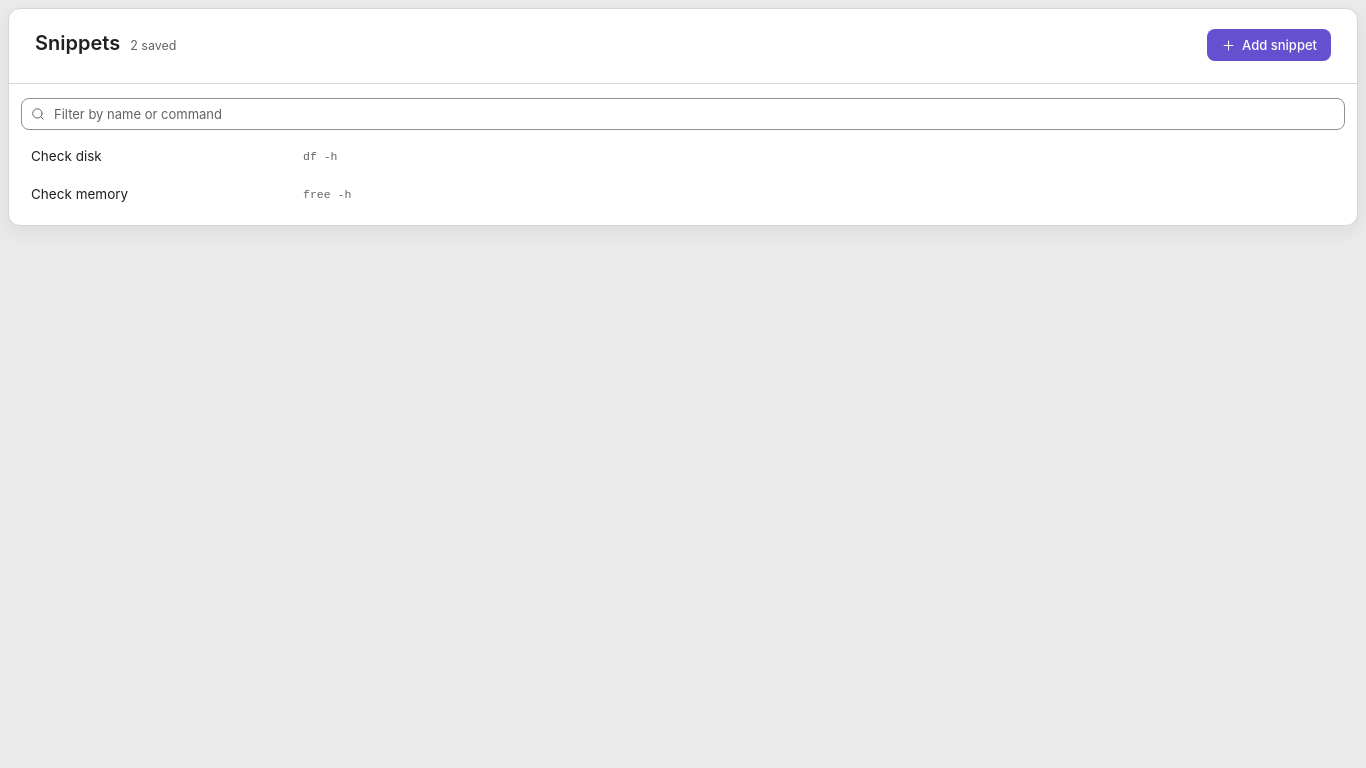
Test case: asks before a new snippet replaces what was typed for another new one
This screenshot has width=1366, height=768.
Expected: the button "Check disk df -h" is shown, [21,138,1345,174]
Click the button "Add snippet" at (1269, 45), box [1207,29,1331,61]
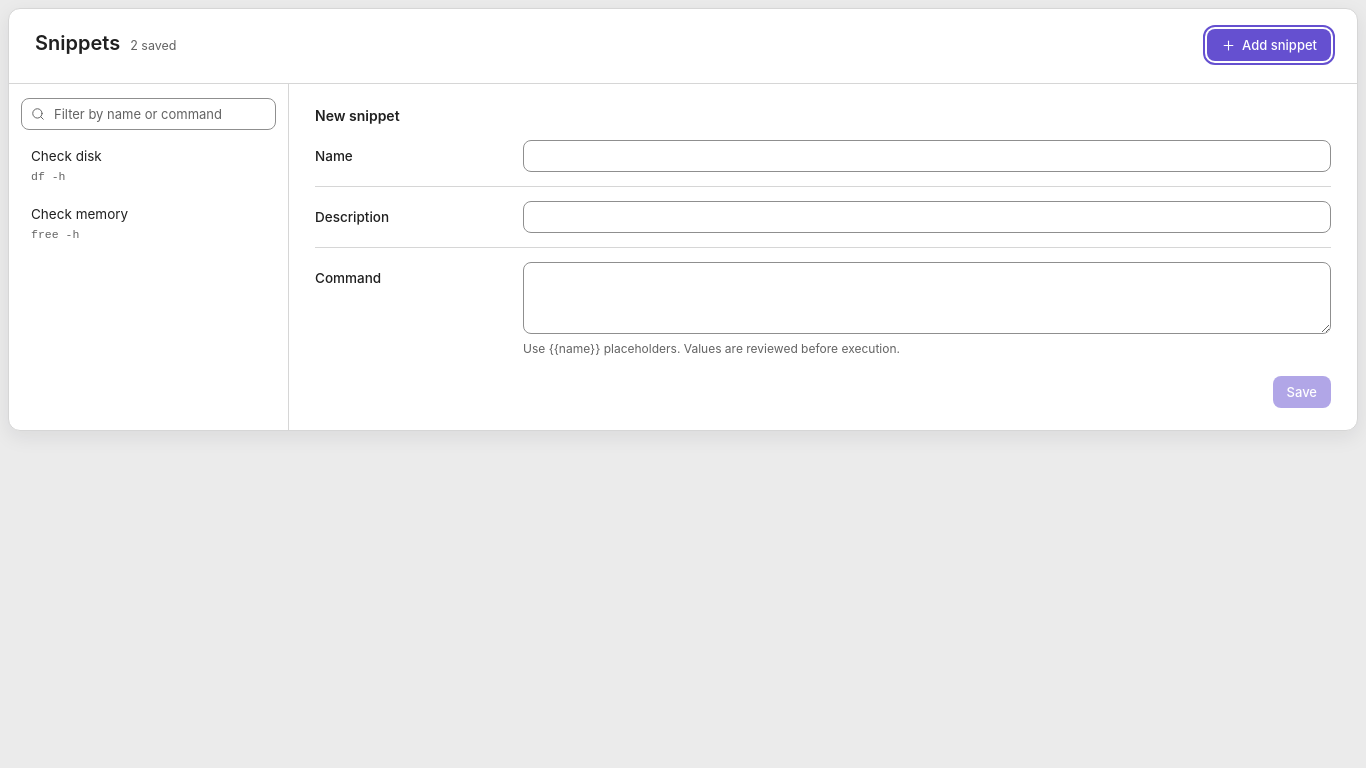
Type "Restart web" into the field labelled "Name" at (927, 156), box [523,140,1331,172]
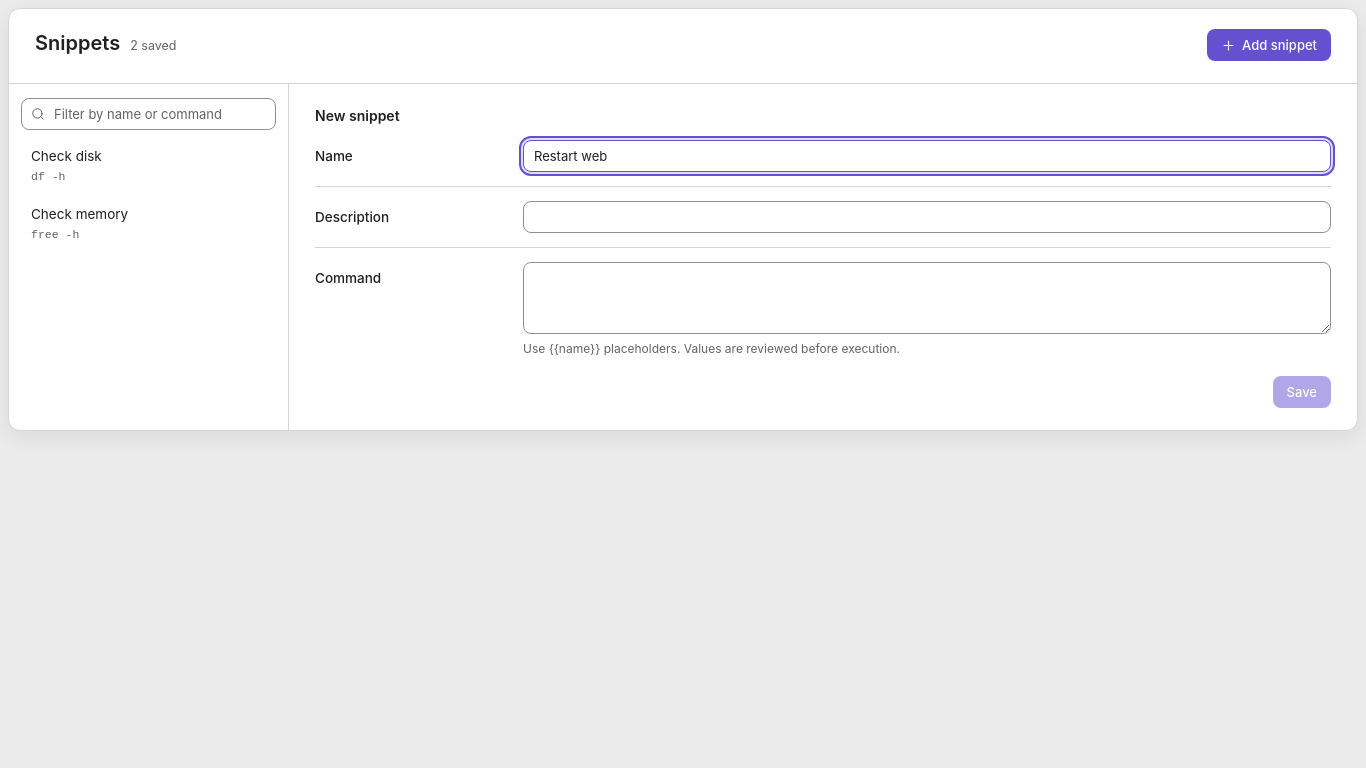
Click the button "Add snippet" at (1269, 45), box [1207,29,1331,61]
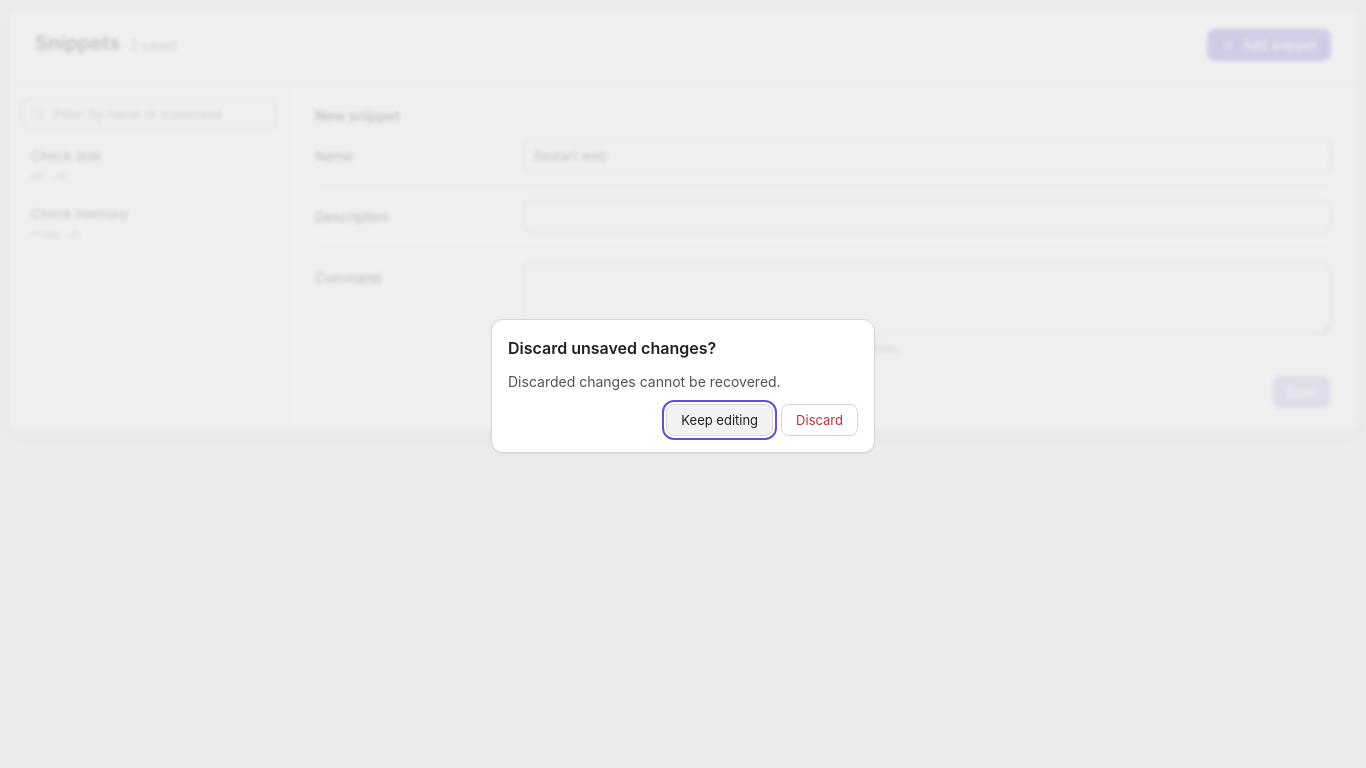
Result: the dialog "Discard unsaved changes?" is shown at [491,319,875,453]
